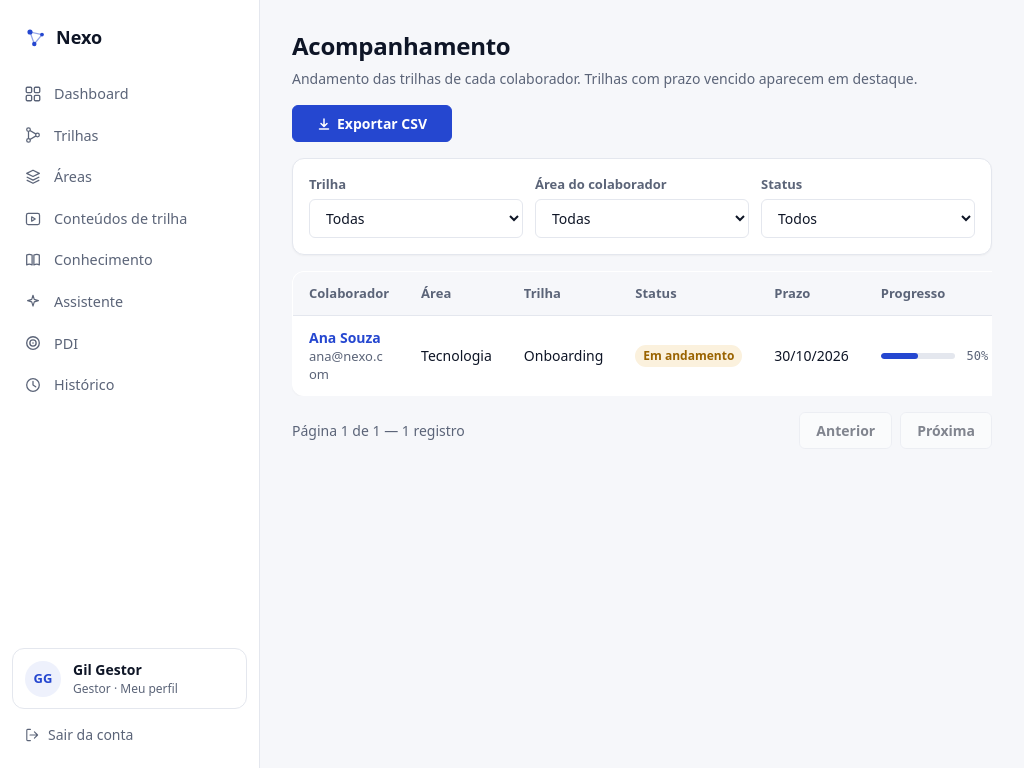
Scenario: AcompanhamentoPage › abre o painel do colaborador com totais e trilhas
This screenshot has width=1024, height=768.
Click the button with aria-label "Ver trilhas de Ana Souza" at (349, 356), box top-left (309, 328), bottom-right (389, 383)
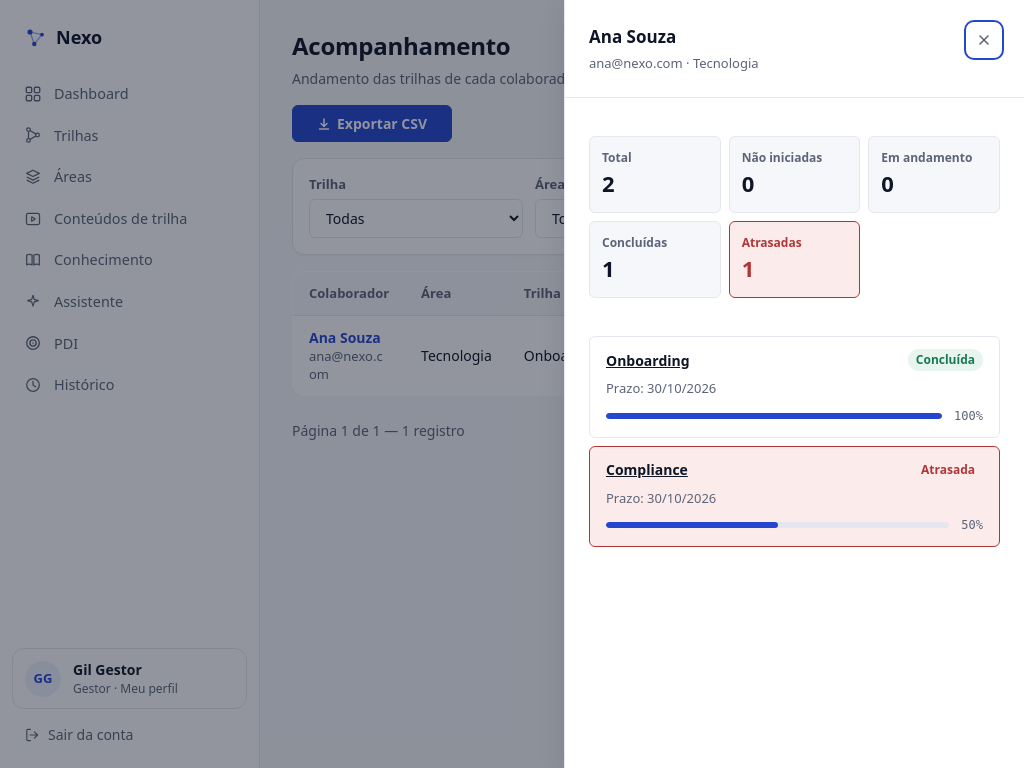
Now the text "1" below "Atrasadas" is shown, box top-left (742, 253), bottom-right (754, 283)
Press Escape
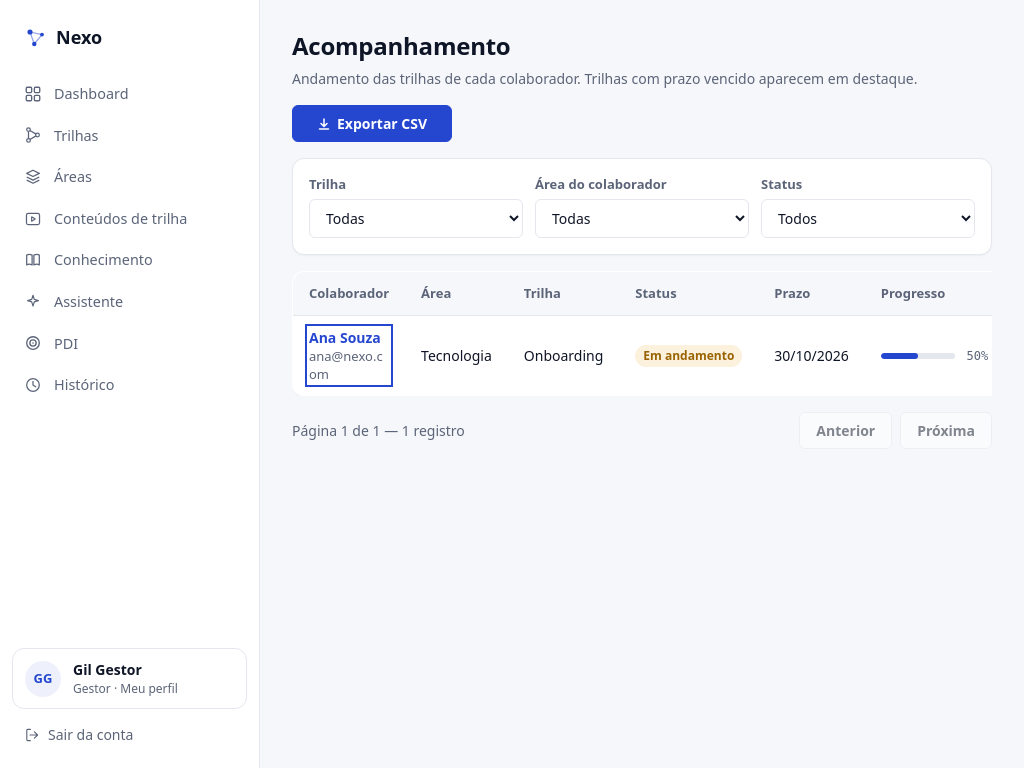
Now the dialog is gone
